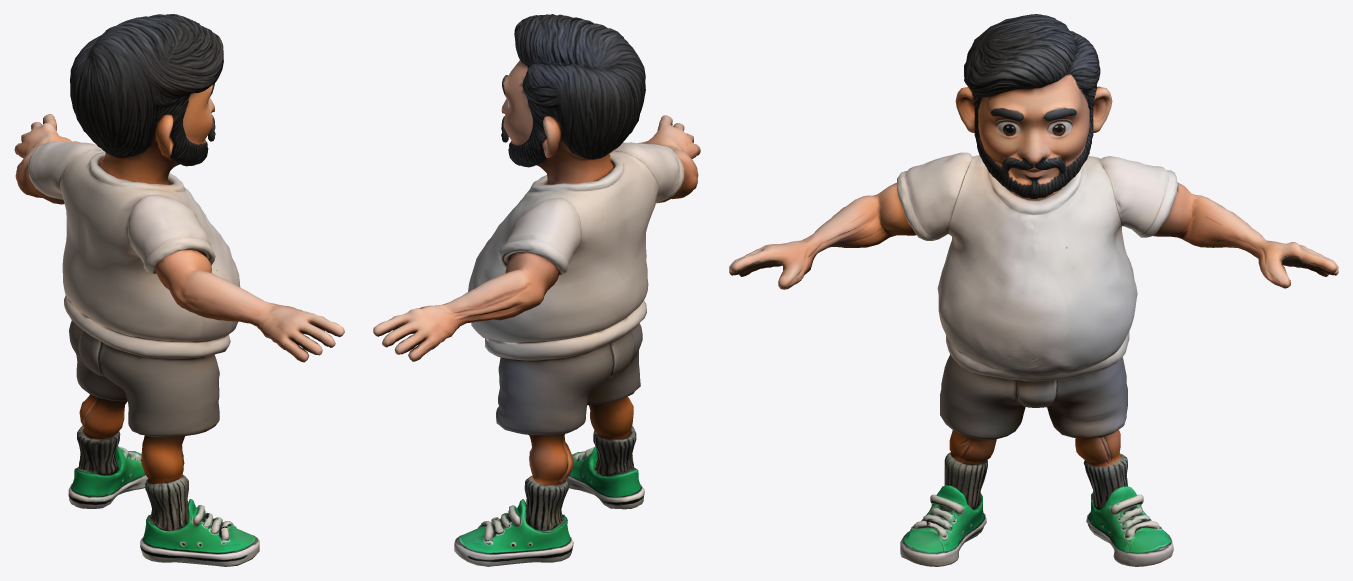
3 renders of one model, left to right at view 1: azimuth 30°, elevation 25°; view 2: azimuth 150°, elevation 25°; view 3: azimuth 270°, elevation 25°, orthographic. The views are drawn at different scales.
Visible parts, largest first — view 1: tripo_node_d10d4608; view 2: tripo_node_d10d4608; view 3: tripo_node_d10d4608.
Boxes of the visible parts, <box> form: tripo_node_d10d4608: <box>14,14,344,566</box>; tripo_node_d10d4608: <box>373,14,700,566</box>; tripo_node_d10d4608: <box>729,14,1338,566</box>.
Bounding box in the file's own units: 0.2994 × 0.9335 × 0.9961.
1 material, 1 textured.
